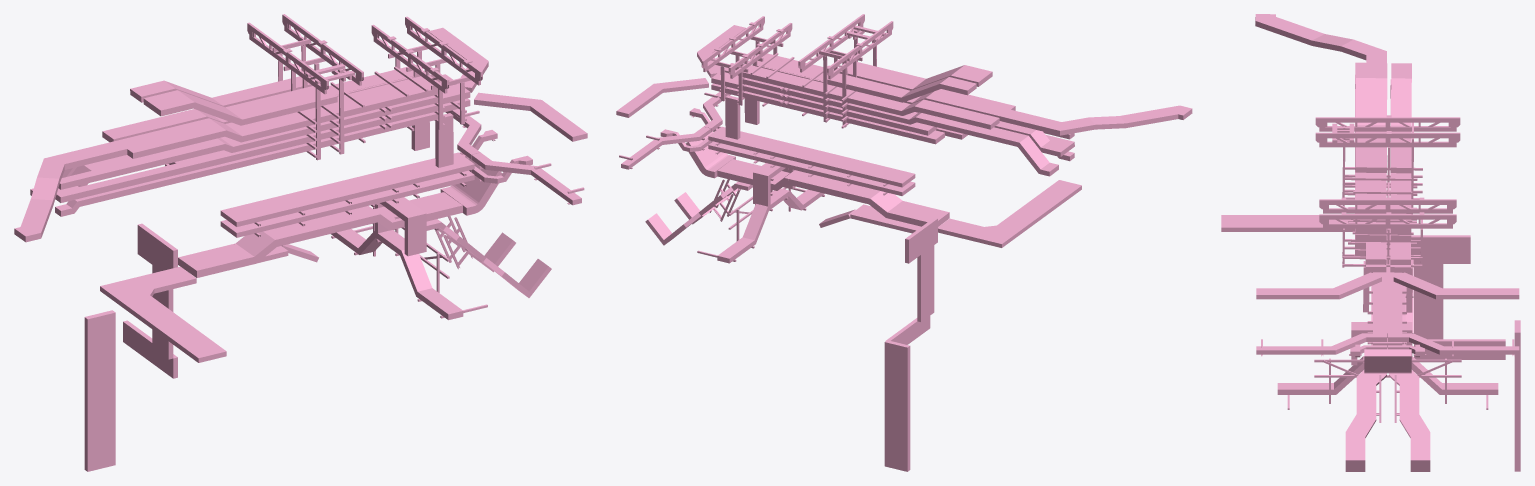
Rendered from Serv-Z0-Sec9-cut3.glb.
The picture shows the model from 3 angles, left to right: view 1: azimuth 30°, elevation 25°; view 2: azimuth 150°, elevation 25°; view 3: azimuth 270°, elevation 25°; orthographic projection. The views are drawn at different scales.
Parts seen in each view (by area): view 1: Serv-Z0-Sec9, Serv-Z0-Sec9-Frames; view 2: Serv-Z0-Sec9, Serv-Z0-Sec9-Frames; view 3: Serv-Z0-Sec9, Serv-Z0-Sec9-Frames.
Boxes of the visible parts, x1=… form: Serv-Z0-Sec9: x1=14, y1=27, x2=587, y2=471; Serv-Z0-Sec9-Frames: x1=247, y1=14, x2=584, y2=318; Serv-Z0-Sec9: x1=616, y1=25, x2=1192, y2=471; Serv-Z0-Sec9-Frames: x1=619, y1=14, x2=893, y2=261; Serv-Z0-Sec9: x1=1221, y1=14, x2=1520, y2=471; Serv-Z0-Sec9-Frames: x1=1261, y1=115, x2=1514, y2=422.
Size of the model in its own units: 12.34 by 9.01 by 6.09.
